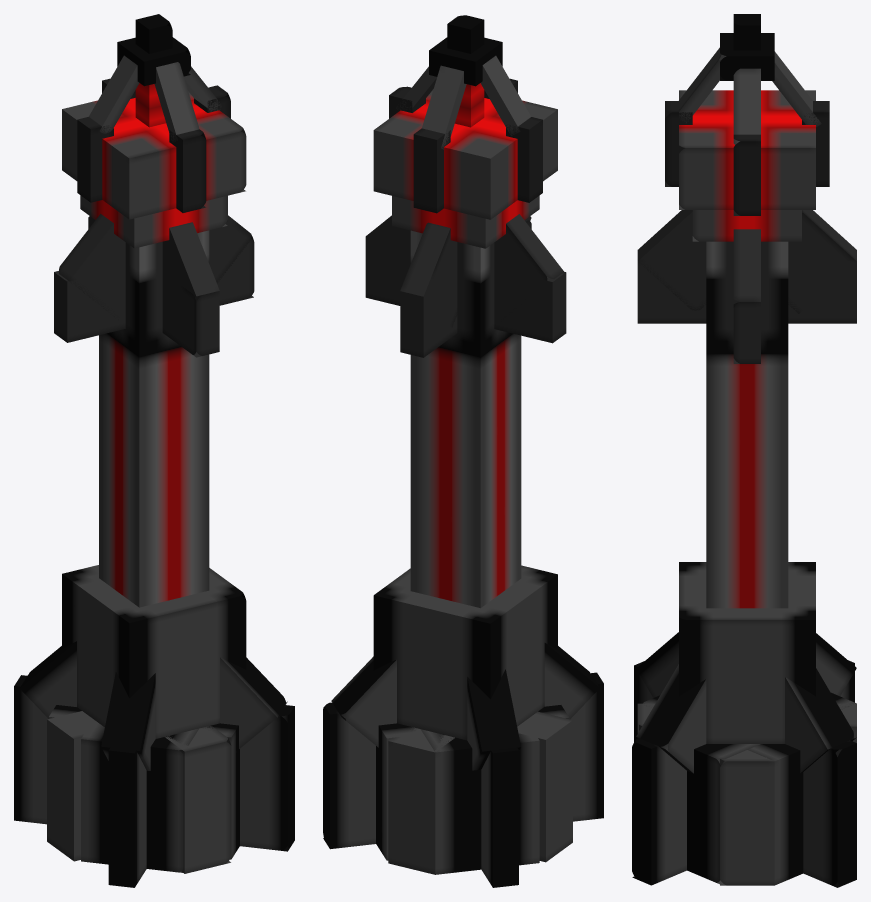
The model's file is missile_redmatter.obj.
3 views of the same model, side by side, from view 1: azimuth 30°, elevation 25°; view 2: azimuth 150°, elevation 25°; view 3: azimuth 270°, elevation 25° (orthographic).
Parts seen in each view (by area): view 1: Shape3, Shape4, Shape8, Shape2, Shape1, Shape12, Shape13, Shape11d, Shape2a, Shape2z, Shape11e, Shape5 (+13 smaller); view 2: Shape3, Shape4, Shape8, Shape2a, Shape1a, Shape11d, Shape12, Shape14, Shape2z, Shape2, Shape10a, Shape5 (+13 smaller); view 3: Shape3, Shape4, Shape8, Shape11e, Shape2a, Shape2, Shape2z, Shape14, Shape13, Shape1a, Shape1, Shape10a.001 (+13 smaller).
Boxes of the visible parts, x1,y1,x2,y2 form: Shape3: (99,230,209,607); Shape4: (62,565,246,738); Shape8: (62,91,246,219); Shape2: (14,675,294,851); Shape1: (81,719,199,872); Shape12: (165,726,231,873); Shape13: (19,641,287,748); Shape11d: (54,233,254,342); Shape2a: (108,748,146,887); Shape2z: (47,711,93,861); Shape11e: (88,217,219,357); Shape5: (80,195,227,248); Shape3: (410,230,521,608); Shape4: (373,565,557,740); Shape8: (373,89,557,219); Shape2a: (323,672,603,849); Shape1a: (420,729,539,874); Shape11d: (365,237,566,343); Shape12: (388,727,454,874); Shape14: (331,643,599,747); Shape2z: (517,711,572,862); Shape2: (481,747,518,887); Shape10a: (400,222,457,327); Shape5: (392,195,539,248); Shape3: (706,241,788,608); Shape4: (679,562,815,743); Shape8: (679,90,815,209); Shape11e: (637,261,856,323); Shape2a: (634,661,856,887); Shape2: (632,660,854,885); Shape2z: (720,750,774,885); Shape14: (636,632,856,772); Shape13: (636,633,856,773); Shape1a: (687,692,856,884); Shape1: (639,695,803,885); Shape10a.001: (637,210,706,310).
Bounding box in the file's own units: 1.04 × 4.13 × 1.03.
